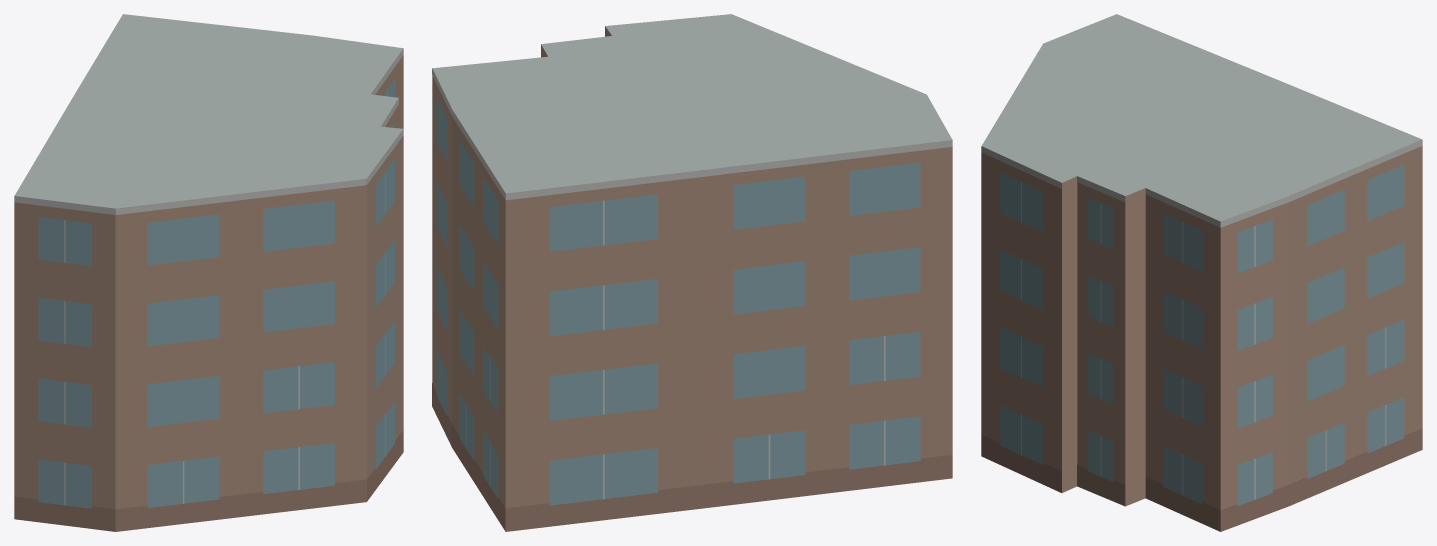
File: survey-upis-32786711.glb
The picture shows the model from 3 angles, left to right: view 1: azimuth 30°, elevation 25°; view 2: azimuth 150°, elevation 25°; view 3: azimuth 270°, elevation 25°; orthographic projection. The views are drawn at different scales.
Parts seen in each view (by area): view 1: survey-upis-32786711.tmp; view 2: survey-upis-32786711.tmp; view 3: survey-upis-32786711.tmp.
Boxes of the visible parts, x1,y1,x2,y2 form: survey-upis-32786711.tmp: [14, 14, 403, 531]; survey-upis-32786711.tmp: [432, 14, 952, 531]; survey-upis-32786711.tmp: [981, 14, 1422, 531].
Size of the model in its own units: 17.51 by 12.2 by 15.73.
